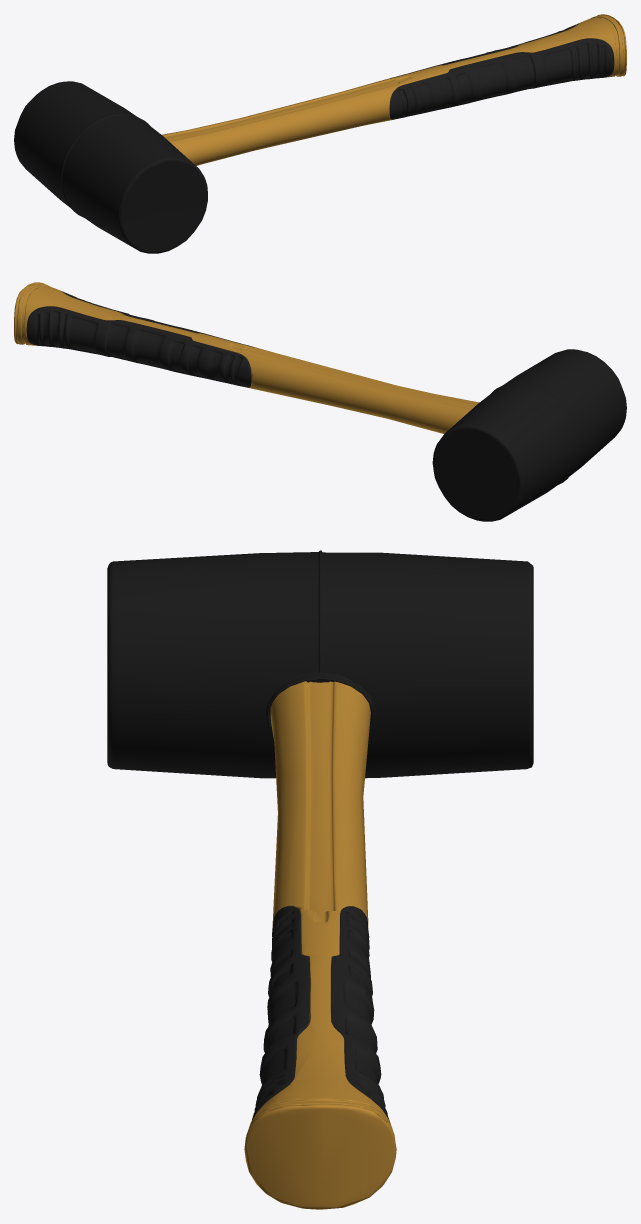
File: p_mallet.glb
3 views of the same model, one above another, from view 1: azimuth 30°, elevation 25°; view 2: azimuth 150°, elevation 25°; view 3: azimuth 270°, elevation 25° (orthographic). The views are drawn at different scales.
Parts seen in each view (by area): view 1: p_mallet_mesh; view 2: p_mallet_mesh; view 3: p_mallet_mesh.
Part boxes in pixels (left/top/right/bottom): p_mallet_mesh: left=14, top=14, right=626, bottom=253; p_mallet_mesh: left=14, top=282, right=626, bottom=521; p_mallet_mesh: left=107, top=550, right=533, bottom=1209.
Bounding box in the file's own units: 0.3938 × 0.0709 × 0.1311.
